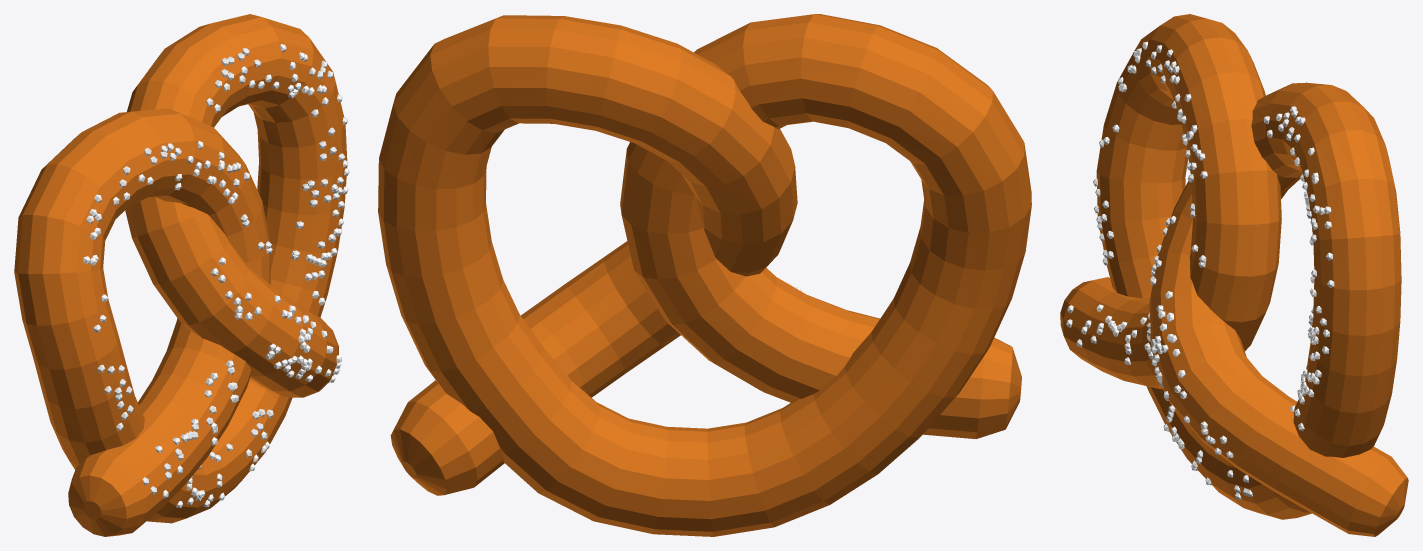
File: 5acdb670-ee27-4d32-a60d-4502ced0288e.glb
3 views of the same model, side by side, from view 1: azimuth 30°, elevation 25°; view 2: azimuth 150°, elevation 25°; view 3: azimuth 270°, elevation 25° (orthographic). The views are drawn at different scales.
Parts seen in each view (by area): view 1: Rectangle_sweep, salt_polys, Rounding_1; view 2: Rectangle_sweep, Rounding_2, Rounding_1; view 3: Rectangle_sweep, salt_polys, Rounding_2.
Boxes of the visible parts, bbox=[...] form: Rectangle_sweep: bbox=[14, 14, 338, 524]; salt_polys: bbox=[77, 41, 347, 511]; Rounding_1: bbox=[68, 456, 146, 536]; Rectangle_sweep: bbox=[378, 14, 1031, 536]; Rounding_2: bbox=[390, 401, 477, 495]; Rounding_1: bbox=[976, 337, 1021, 438]; Rectangle_sweep: bbox=[1064, 14, 1401, 533]; salt_polys: bbox=[1063, 39, 1333, 503]; Rounding_2: bbox=[1347, 456, 1408, 536].
Bounding box in the file's own units: 211 × 207 × 151.
